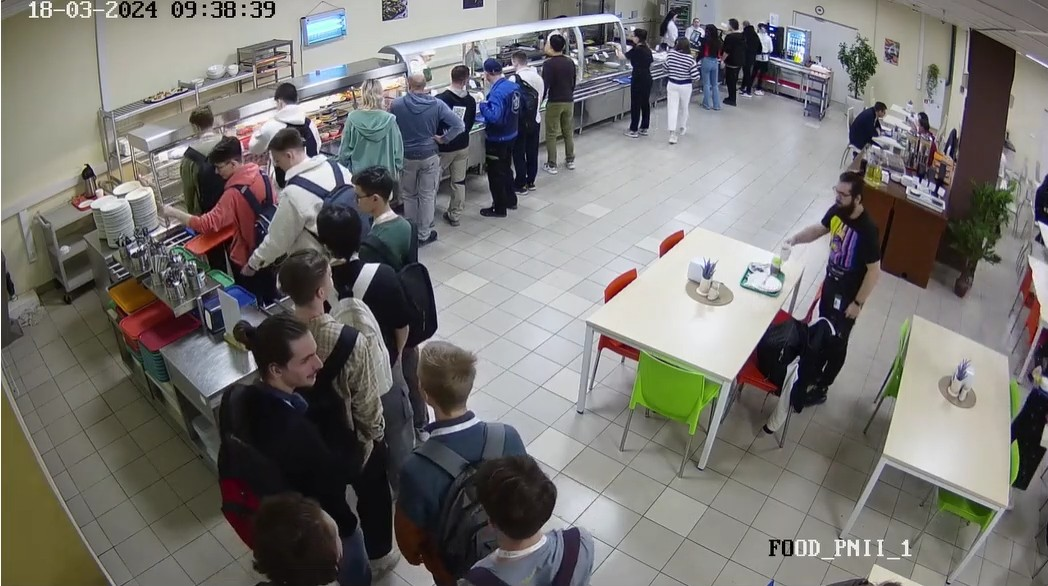Na_Kasse: (702, 24, 722, 108), (722, 16, 740, 104), (743, 21, 757, 97), (757, 20, 768, 98)
Ne_v_Ocheredi: (217, 315, 337, 490), (444, 454, 583, 586), (262, 246, 366, 388), (397, 344, 494, 494), (227, 497, 387, 586), (799, 167, 870, 344), (341, 168, 419, 301), (312, 209, 385, 331), (663, 41, 694, 143)
Personal: (656, 6, 677, 35), (686, 12, 700, 37)
Vybiraet: (188, 143, 280, 287), (268, 132, 356, 265), (399, 72, 443, 246), (341, 71, 402, 189), (167, 100, 226, 203), (540, 37, 582, 176), (510, 49, 542, 192), (479, 65, 509, 216), (440, 66, 468, 222), (262, 77, 305, 144), (626, 27, 651, 136)
Za_Stolom: (839, 102, 884, 165), (904, 108, 941, 155), (1032, 165, 1048, 232)
